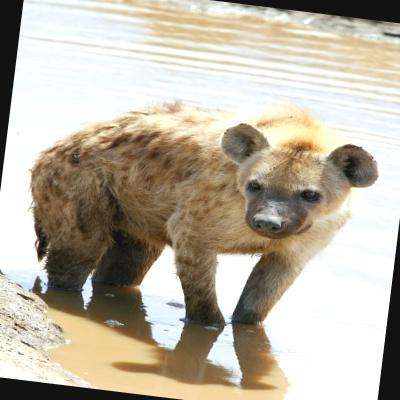hyenas: (4, 29, 400, 400)
